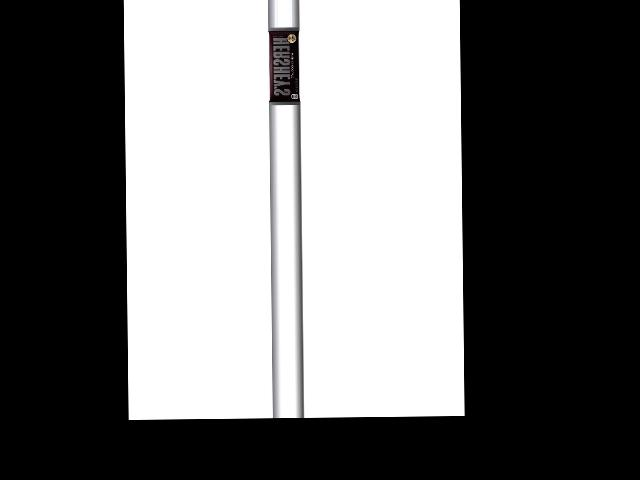chocolate: (269, 28, 303, 105)
